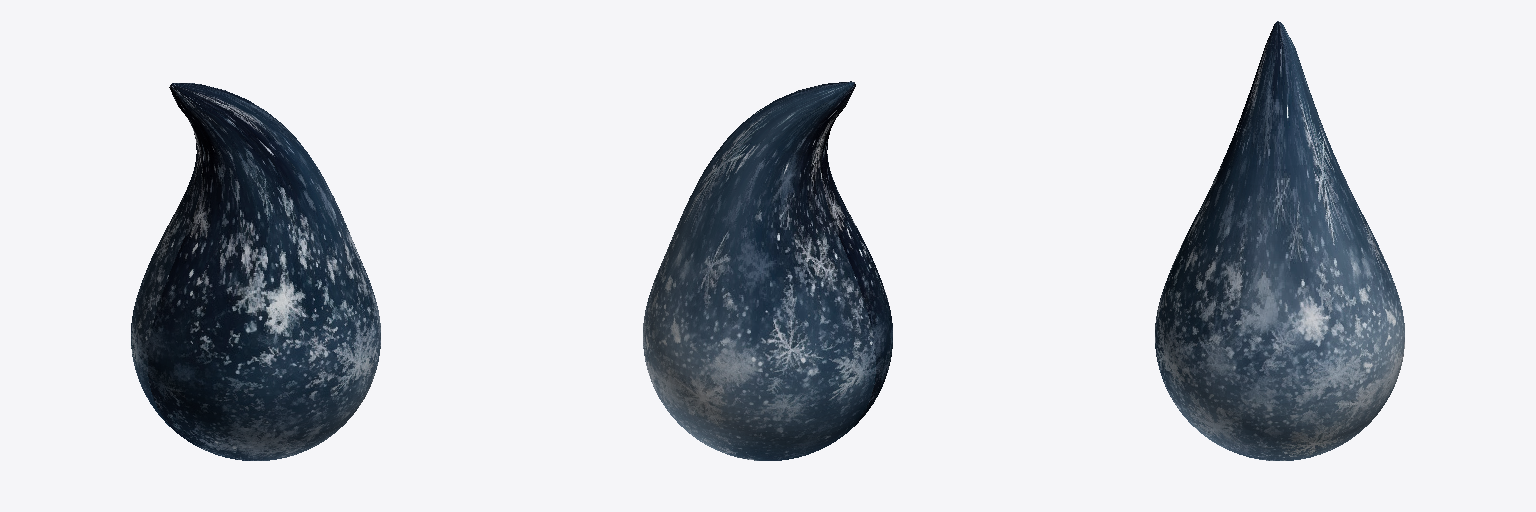
The picture shows the model from 3 angles: view 1: azimuth 30°, elevation 25°; view 2: azimuth 150°, elevation 25°; view 3: azimuth 270°, elevation 25°; orthographic projection.
Visible parts, largest first — view 1: Sphere; view 2: Sphere; view 3: Sphere.
Part boxes in pixels (left/top/right/bottom): Sphere: left=131, top=83, right=380, bottom=460; Sphere: left=643, top=81, right=892, bottom=460; Sphere: left=1155, top=21, right=1404, bottom=460.
Size of the model in its own units: 2 by 3.41 by 2.
1 materials, 1 textured.